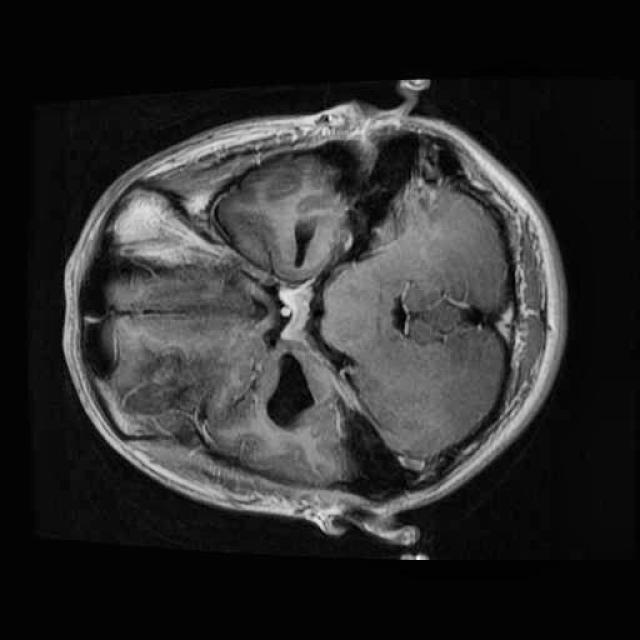Non-Tumor: (248, 329, 331, 444)
